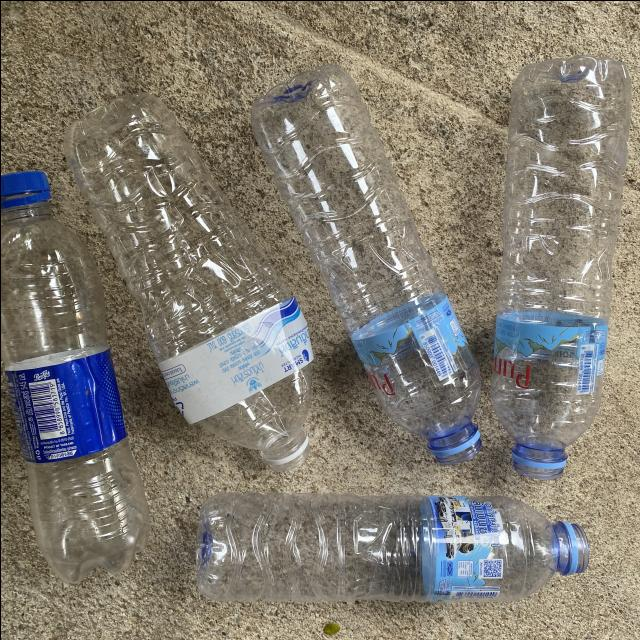plastik: (63, 93, 312, 469), (250, 64, 480, 464), (0, 171, 148, 581), (490, 55, 630, 478), (195, 491, 587, 601)
